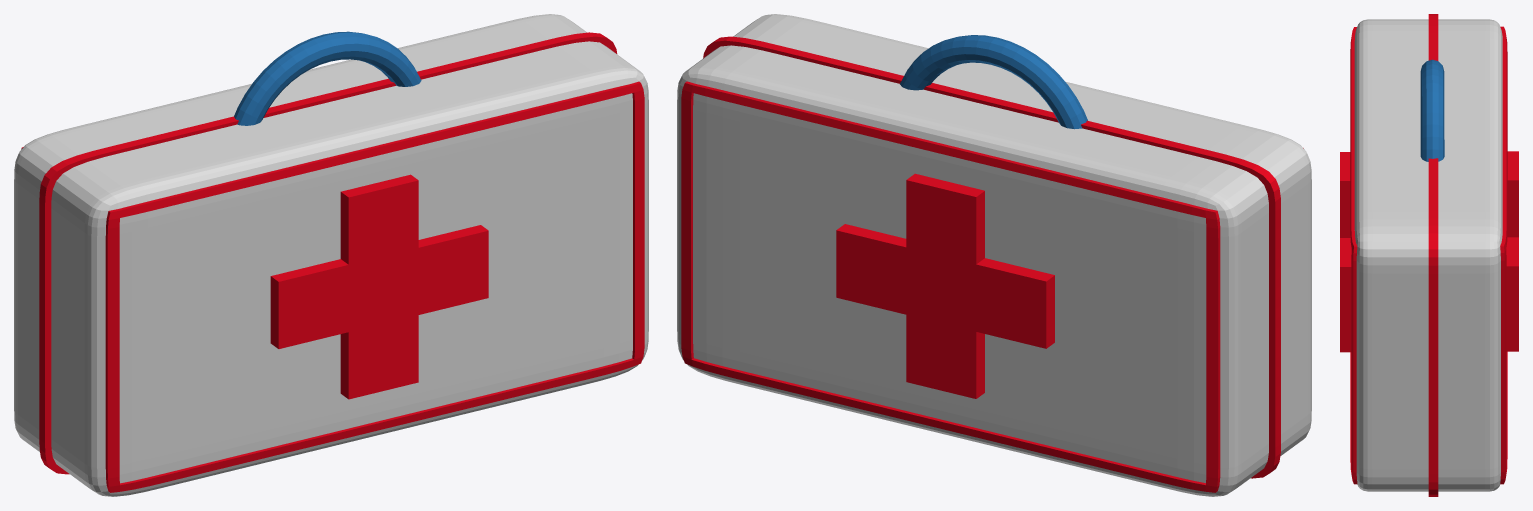
The model's file is healthkit.fbx.
3 views of the same model, side by side, from view 1: azimuth 30°, elevation 25°; view 2: azimuth 150°, elevation 25°; view 3: azimuth 270°, elevation 25° (orthographic). The views are drawn at different scales.
Parts seen in each view (by area): view 1: bag, cross.001, bag details.001, bag details, handle; view 2: bag, cross, bag details, handle; view 3: bag, bag details, bag details.001, cross, handle, cross.001.
Boxes of the visible parts, <box> form: bag: <box>14,14,648,496</box>; cross.001: <box>270,174,488,399</box>; bag details.001: <box>105,81,644,492</box>; bag details: <box>21,32,617,474</box>; handle: <box>234,31,421,125</box>; bag: <box>677,14,1311,496</box>; cross: <box>836,173,1054,398</box>; bag details: <box>681,36,1280,492</box>; handle: <box>900,35,1087,129</box>; bag: <box>1354,19,1502,491</box>; bag details: <box>1428,14,1507,496</box>; bag details.001: <box>1350,27,1357,484</box>; cross: <box>1506,151,1518,351</box>; handle: <box>1420,59,1444,161</box>; cross.001: <box>1340,152,1351,352</box>.
Size of the model in its own units: 508 by 319 by 162.
